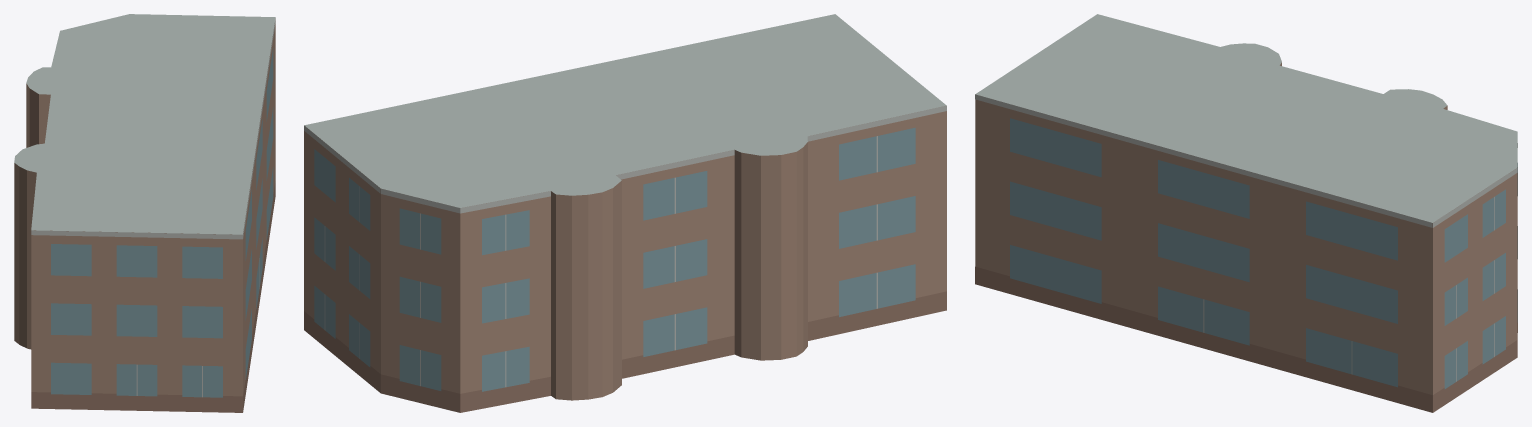
Rendered from survey-upis-32738203.glb.
3 renders of one model, left to right at view 1: azimuth 30°, elevation 25°; view 2: azimuth 150°, elevation 25°; view 3: azimuth 270°, elevation 25°, orthographic. The views are drawn at different scales.
Visible parts, largest first — view 1: survey-upis-32738203.tmp; view 2: survey-upis-32738203.tmp; view 3: survey-upis-32738203.tmp.
Part boxes in pixels (x1=…): survey-upis-32738203.tmp: x1=14, y1=14, x2=275, y2=412; survey-upis-32738203.tmp: x1=304, y1=14, x2=946, y2=412; survey-upis-32738203.tmp: x1=975, y1=14, x2=1517, y2=412.
Size of the model in its own units: 21.6 by 9.15 by 23.7.
